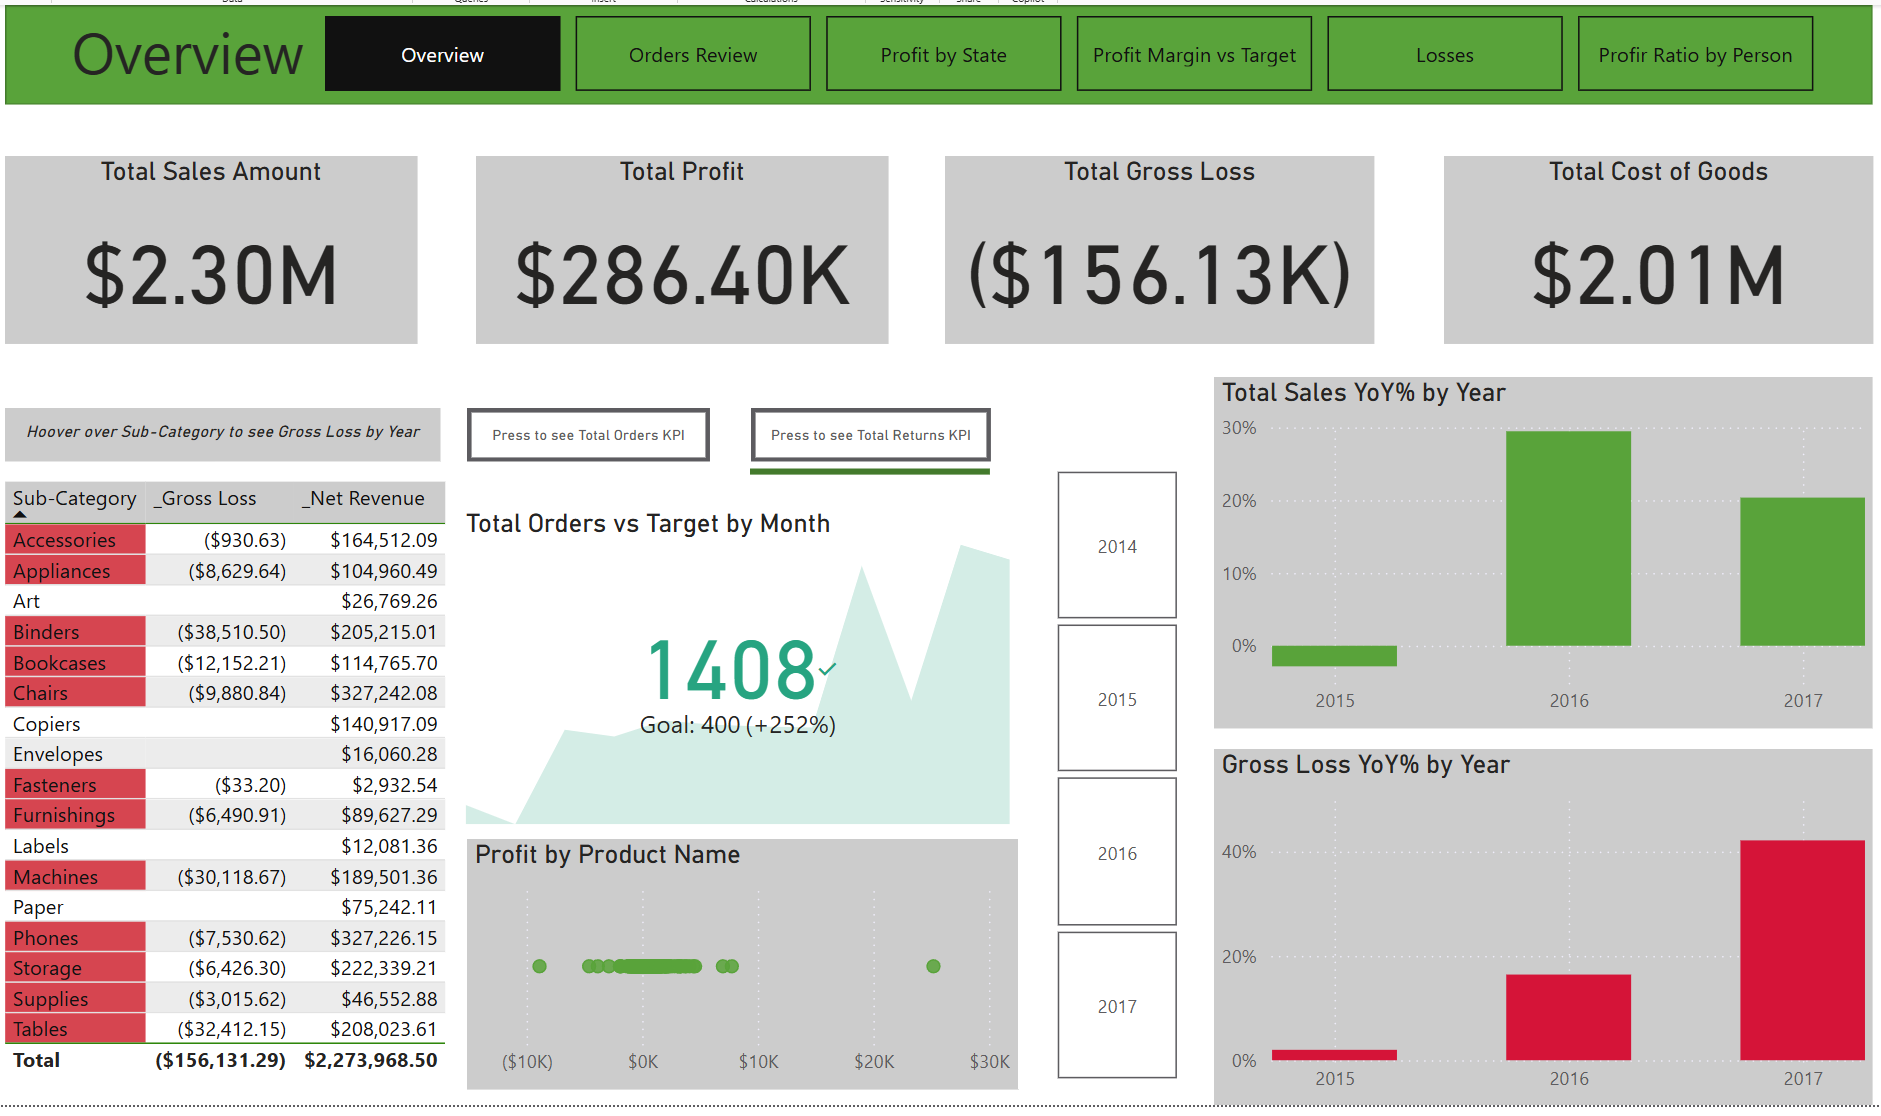

The dashboard page shown, as its layout file describes it:
{"tool":"powerbi","page":{"name":"Overview","canvas":[1280,720],"ordinal":0},"visuals":[{"type":"card","title":"Total Sales Amount","fields":{"Values":["Orders._Total Sales"]},"box":[47.8,98.8,269.6,123],"z":0},{"type":"shape","box":[47.8,0,1222.4,65.4],"z":1000},{"type":"textbox","box":[86.4,0,170.8,72.6],"z":2000},{"type":"card","title":"Total Gross Loss","fields":{"Values":["Orders._Gross Loss"]},"box":[662.9,98.8,280.7,123],"z":3000},{"type":"card","title":"Total Profit","fields":{"Values":["Sum(Orders.Profit)"]},"box":[356,98.8,269.6,123],"z":4000},{"type":"card","title":"Total Cost of Goods","fields":{"Values":["Sum(Orders.COGS)"]},"box":[989.4,98.8,280.7,123],"z":5000},{"type":"tableEx","fields":{"Values":["Products.Sub-Category","Orders._Gross Loss","Orders._Net Revenue"]},"box":[41.9,306.9,308.2,401.8],"z":6000},{"type":"textbox","box":[47.8,263.7,284.7,35.3],"z":7000},{"type":"scatterChart","title":"Profit by Product Name","fields":{"Category":["Products.Product Name"],"X":["Sum(Orders.Profit)"]},"box":[350.1,545.8,360.6,163.6],"z":8000},{"type":"kpi","title":"Total Orders vs Target by Month","fields":{"Indicator":["Orders._Total Orders"],"TrendLine":["Orders.Order Date.Variation.Date Hierarchy.Month"],"Goal":["Orders._Target Orders"]},"box":[344.2,329.2,366.5,212],"z":9000},{"type":"slicer","fields":{"Values":["Orders.Order Date.Variation.Date Hierarchy.Year"]},"box":[710.7,298.4,128.3,411],"z":10000},{"type":"actionButton","title":"Button -  Total Orders KPI","box":[350.1,263.7,159,35.3],"z":11000},{"type":"actionButton","title":"Button - Total Returns KPI ","box":[536,263.7,157.1,35.3],"z":12000},{"type":"shape","title":"Line Total Returns KPI","box":[535.6,294.7,157.4,21.7],"z":14000},{"type":"pageNavigator","box":[257.4,7.2,976.4,49.8],"z":15000},{"type":"clusteredColumnChart","title":"Total Sales YoY% by Year","fields":{"Category":["Orders.Order Date.Variation.Date Hierarchy.Year"],"Y":["Orders._Total Sales YoY% 2"]},"box":[839.1,243.3,431.2,229.7],"z":17000},{"type":"clusteredColumnChart","title":"Gross Loss YoY% by Year","fields":{"Y":["Orders._Gross Loss YoY%"],"Category":["Orders.Order Date.Variation.Date Hierarchy.Year"]},"box":[839.1,486.6,431.2,233.7],"z":18000}]}

Visuals, with their boxes on the page's 1280x720 design canvas (x1, y1, x2, y2). These are canvas units, not pixel positions in the 1881x1116 screenshot, which may show the page scaled, cropped or inside an application window:
"Total Sales Amount" card: x1=48 y1=99 x2=317 y2=222
shape: x1=48 y1=0 x2=1270 y2=65
textbox: x1=86 y1=0 x2=257 y2=73
"Total Gross Loss" card: x1=663 y1=99 x2=944 y2=222
"Total Profit" card: x1=356 y1=99 x2=626 y2=222
"Total Cost of Goods" card: x1=989 y1=99 x2=1270 y2=222
tableEx - Products.Sub-Category x Orders._Gross Loss: x1=42 y1=307 x2=350 y2=709
textbox: x1=48 y1=264 x2=332 y2=299
"Profit by Product Name" scatterChart: x1=350 y1=546 x2=711 y2=709
"Total Orders vs Target by Month" kpi: x1=344 y1=329 x2=711 y2=541
slicer - Orders.Order Date.Variation.Date Hierarchy.Year: x1=711 y1=298 x2=839 y2=709
"Button -  Total Orders KPI" actionButton: x1=350 y1=264 x2=509 y2=299
"Button - Total Returns KPI " actionButton: x1=536 y1=264 x2=693 y2=299
"Line Total Returns KPI" shape: x1=536 y1=295 x2=693 y2=316
pageNavigator: x1=257 y1=7 x2=1234 y2=57
"Total Sales YoY% by Year" clusteredColumnChart: x1=839 y1=243 x2=1270 y2=473
"Gross Loss YoY% by Year" clusteredColumnChart: x1=839 y1=487 x2=1270 y2=720
